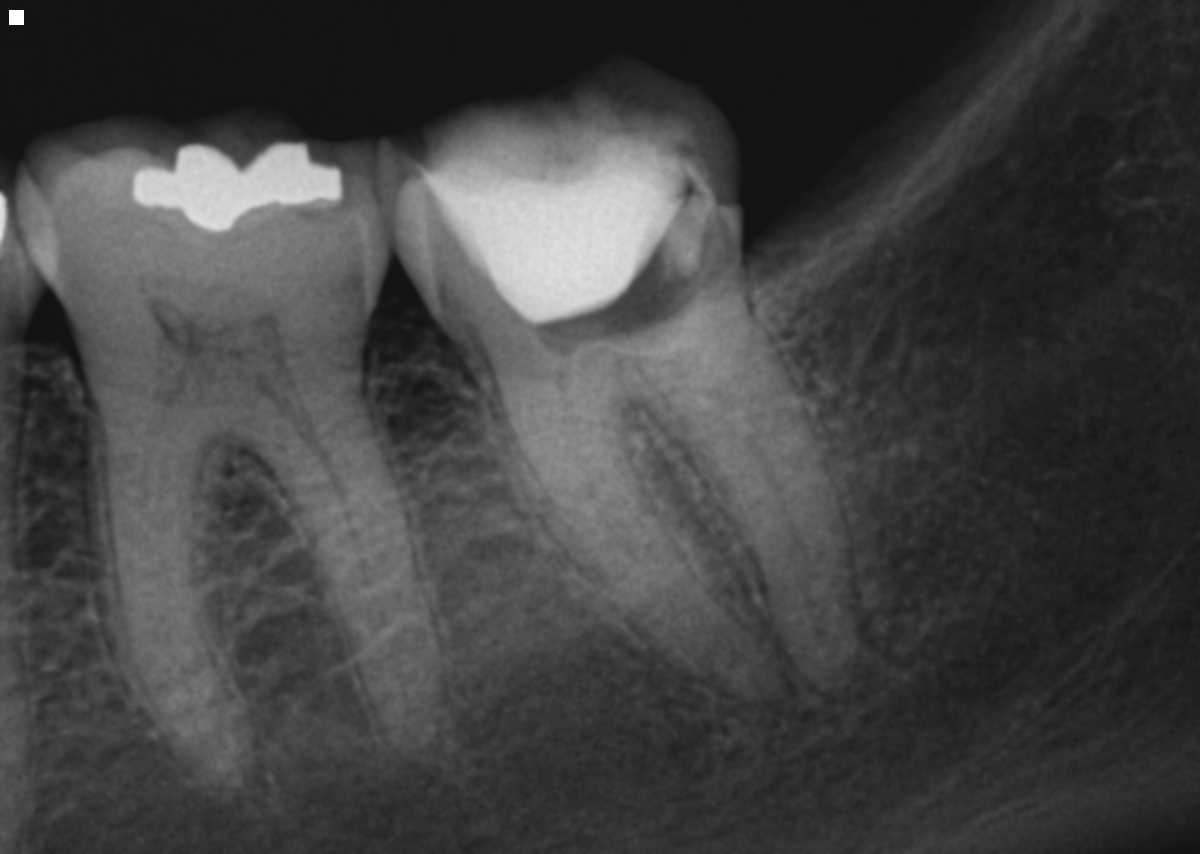Distal Canal: (745, 436, 830, 651)
Distal Root: (604, 249, 858, 698)
Main Root: (252, 425, 448, 751), (0, 364, 35, 854)
Mesial Canal: (298, 429, 410, 721)
Mesial Root: (467, 324, 787, 707), (85, 400, 263, 792)
